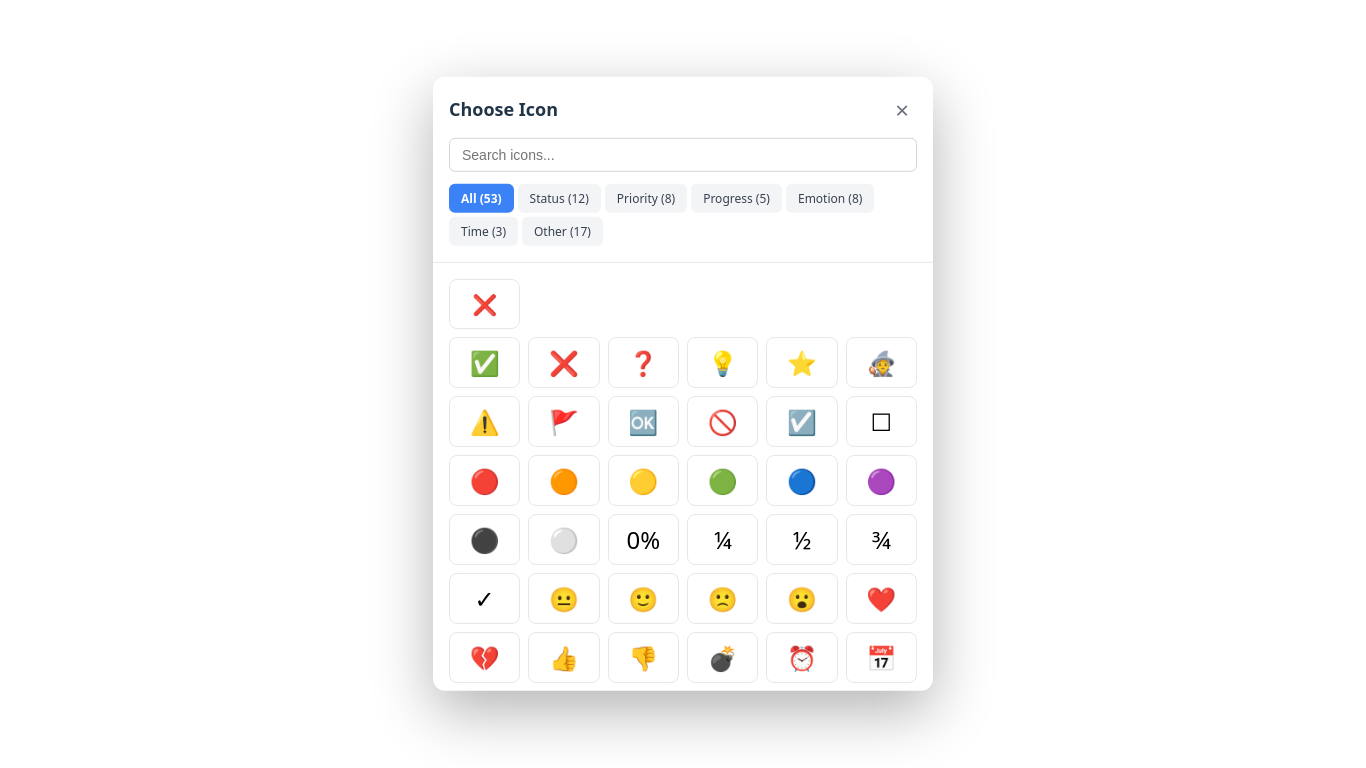
IconPicker › when filtering by category › should clear search and category when All button is clicked
// First select a category
Click the button "Status (12)" at x=559, y=198, box [518, 184, 601, 213]
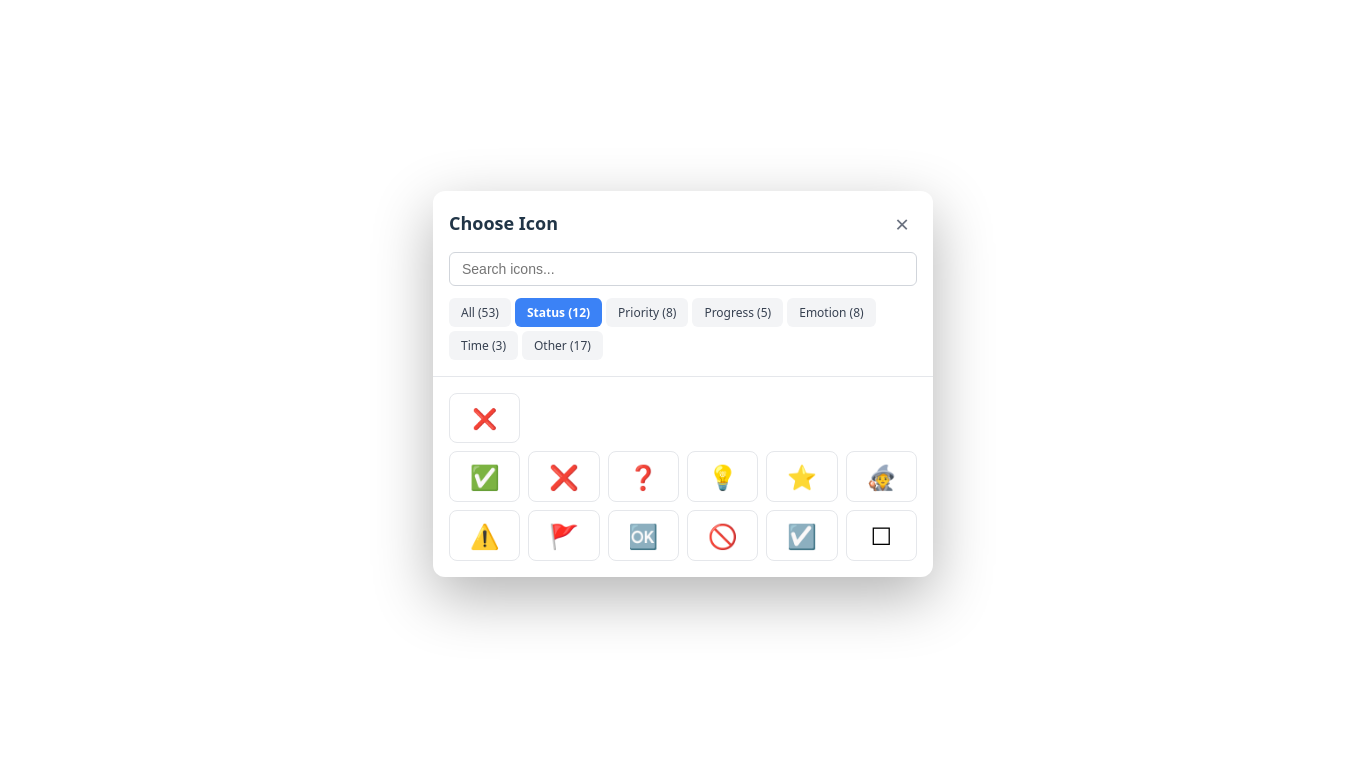
// Then click All button
Click the button "All (53)" at x=480, y=312, box [449, 298, 511, 327]
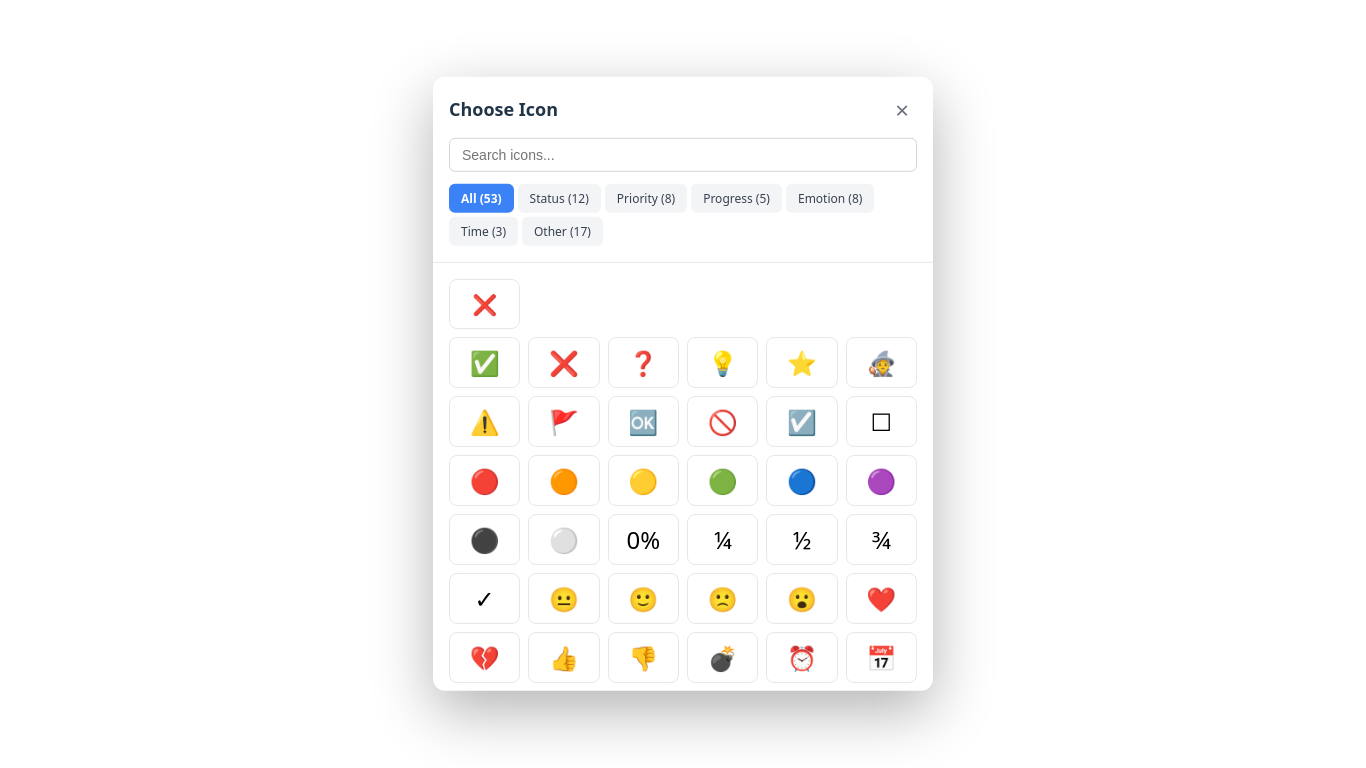
expect the field named "Search icons by name or ID" is empty: met, box [449, 138, 917, 172]
expect the button named "Priority 1 (full-1)" is shown: met, box [449, 455, 520, 506]
